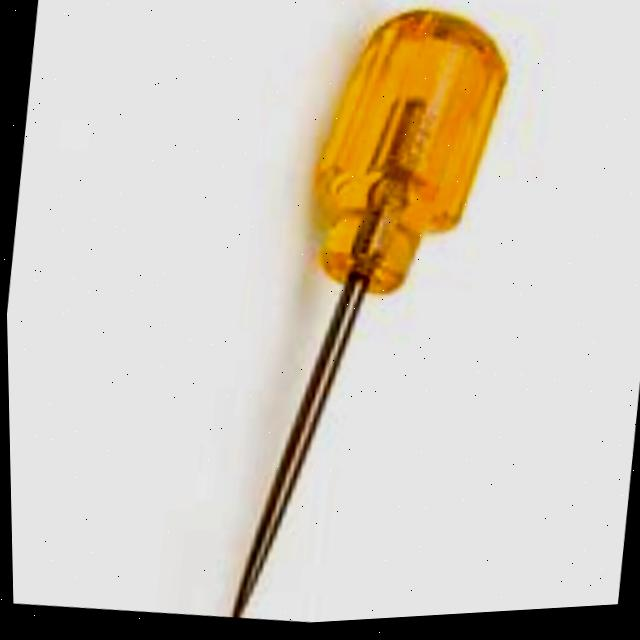ice pick: (207, 0, 533, 630)
